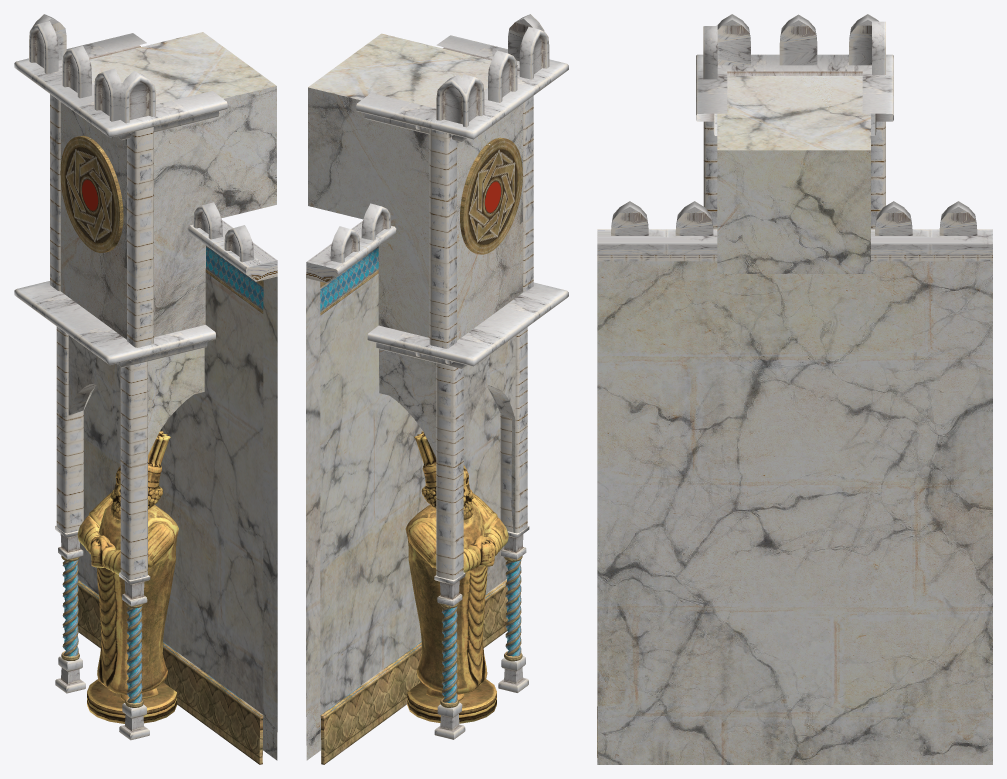
Rendered from EastTower.fbx.
The picture shows the model from 3 angles, left to right: view 1: azimuth 30°, elevation 25°; view 2: azimuth 150°, elevation 25°; view 3: azimuth 270°, elevation 25°; orthographic projection. The views are drawn at different scales.
Parts seen in each view (by area): view 1: Wall, Stonework, Statue, Trims, Emblem; view 2: Wall, Stonework, Statue, Trims, Emblem; view 3: Wall, Stonework.
Boxes of the visible parts, x1,y1,x2,y2 form: Wall: [60, 32, 277, 760]; Stonework: [14, 14, 277, 740]; Statue: [77, 431, 178, 723]; Trims: [61, 245, 263, 764]; Emblem: [60, 135, 123, 252]; Wall: [306, 33, 522, 763]; Stonework: [306, 14, 568, 739]; Statue: [405, 431, 508, 723]; Trims: [320, 246, 522, 764]; Emblem: [460, 137, 522, 254]; Wall: [597, 76, 992, 764]; Stonework: [597, 14, 992, 261].
Size of the model in its own units: 171 by 617 by 317.
